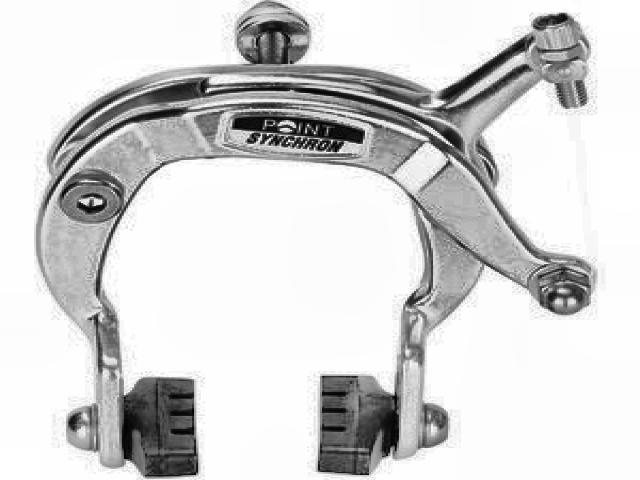rim_brake: (19, 8, 598, 476)
